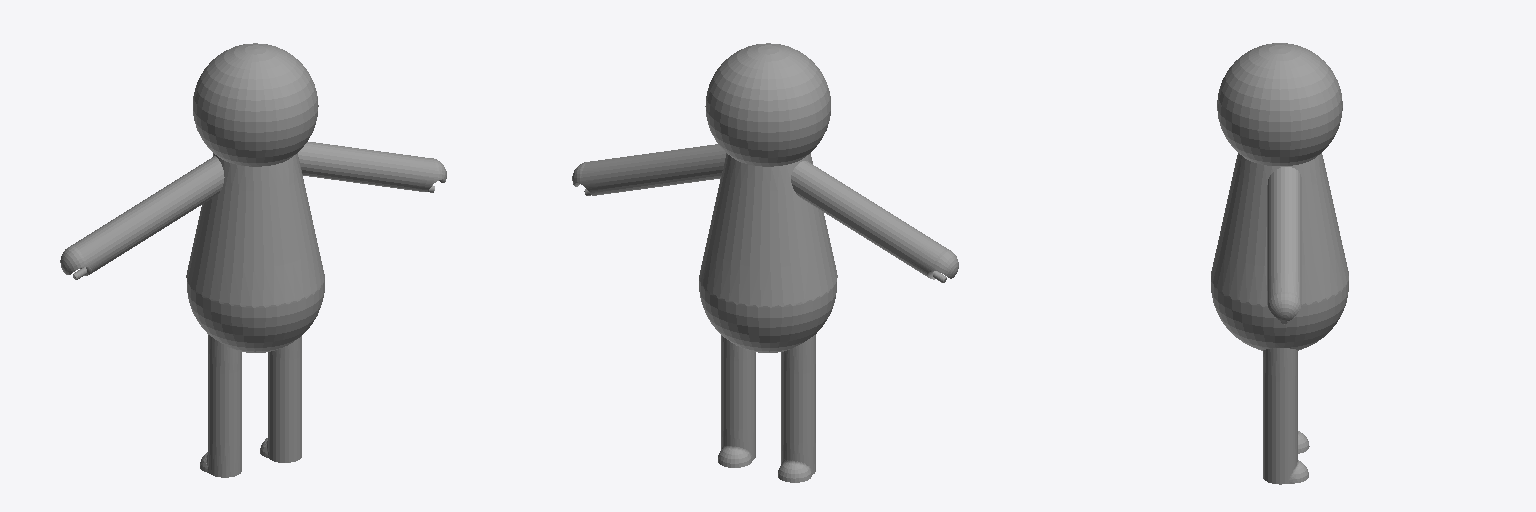
File: mch.obj
3 renders of one model, left to right at view 1: azimuth 30°, elevation 25°; view 2: azimuth 150°, elevation 25°; view 3: azimuth 270°, elevation 25°, orthographic.
Parts seen in each view (by area): view 1: Panecek; view 2: Panecek; view 3: Panecek.
Part boxes in pixels (x1,y1,x2,y2): Panecek: (60,43,446,477); Panecek: (572,43,958,482); Panecek: (1211,43,1348,484).
Bounding box in the file's own units: 5.67 × 5.88 × 1.78.